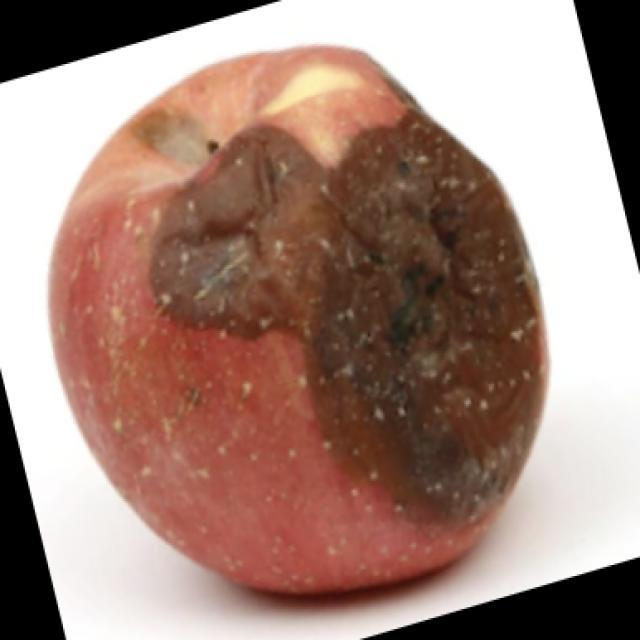Rotten: (36, 45, 546, 610)
